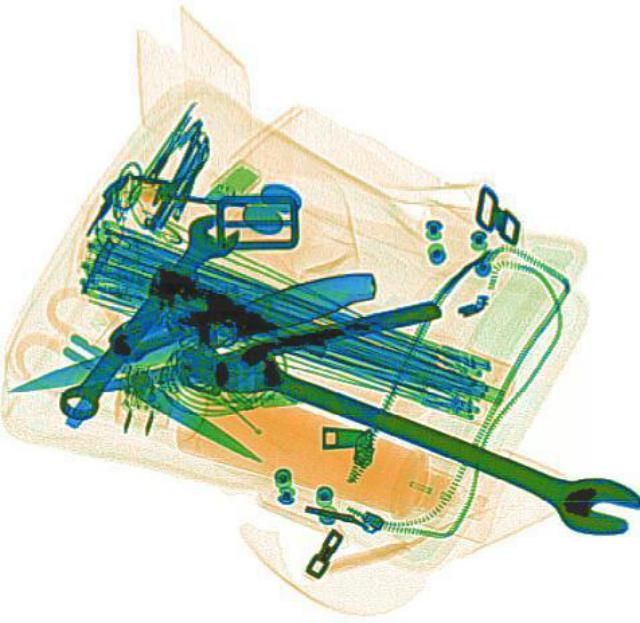Gun: (102, 254, 332, 423)
Knife: (0, 263, 379, 404), (60, 296, 442, 401), (55, 326, 268, 470)
Wrench: (203, 331, 634, 541), (42, 204, 246, 427)
